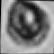correct: (1, 1, 54, 50)
